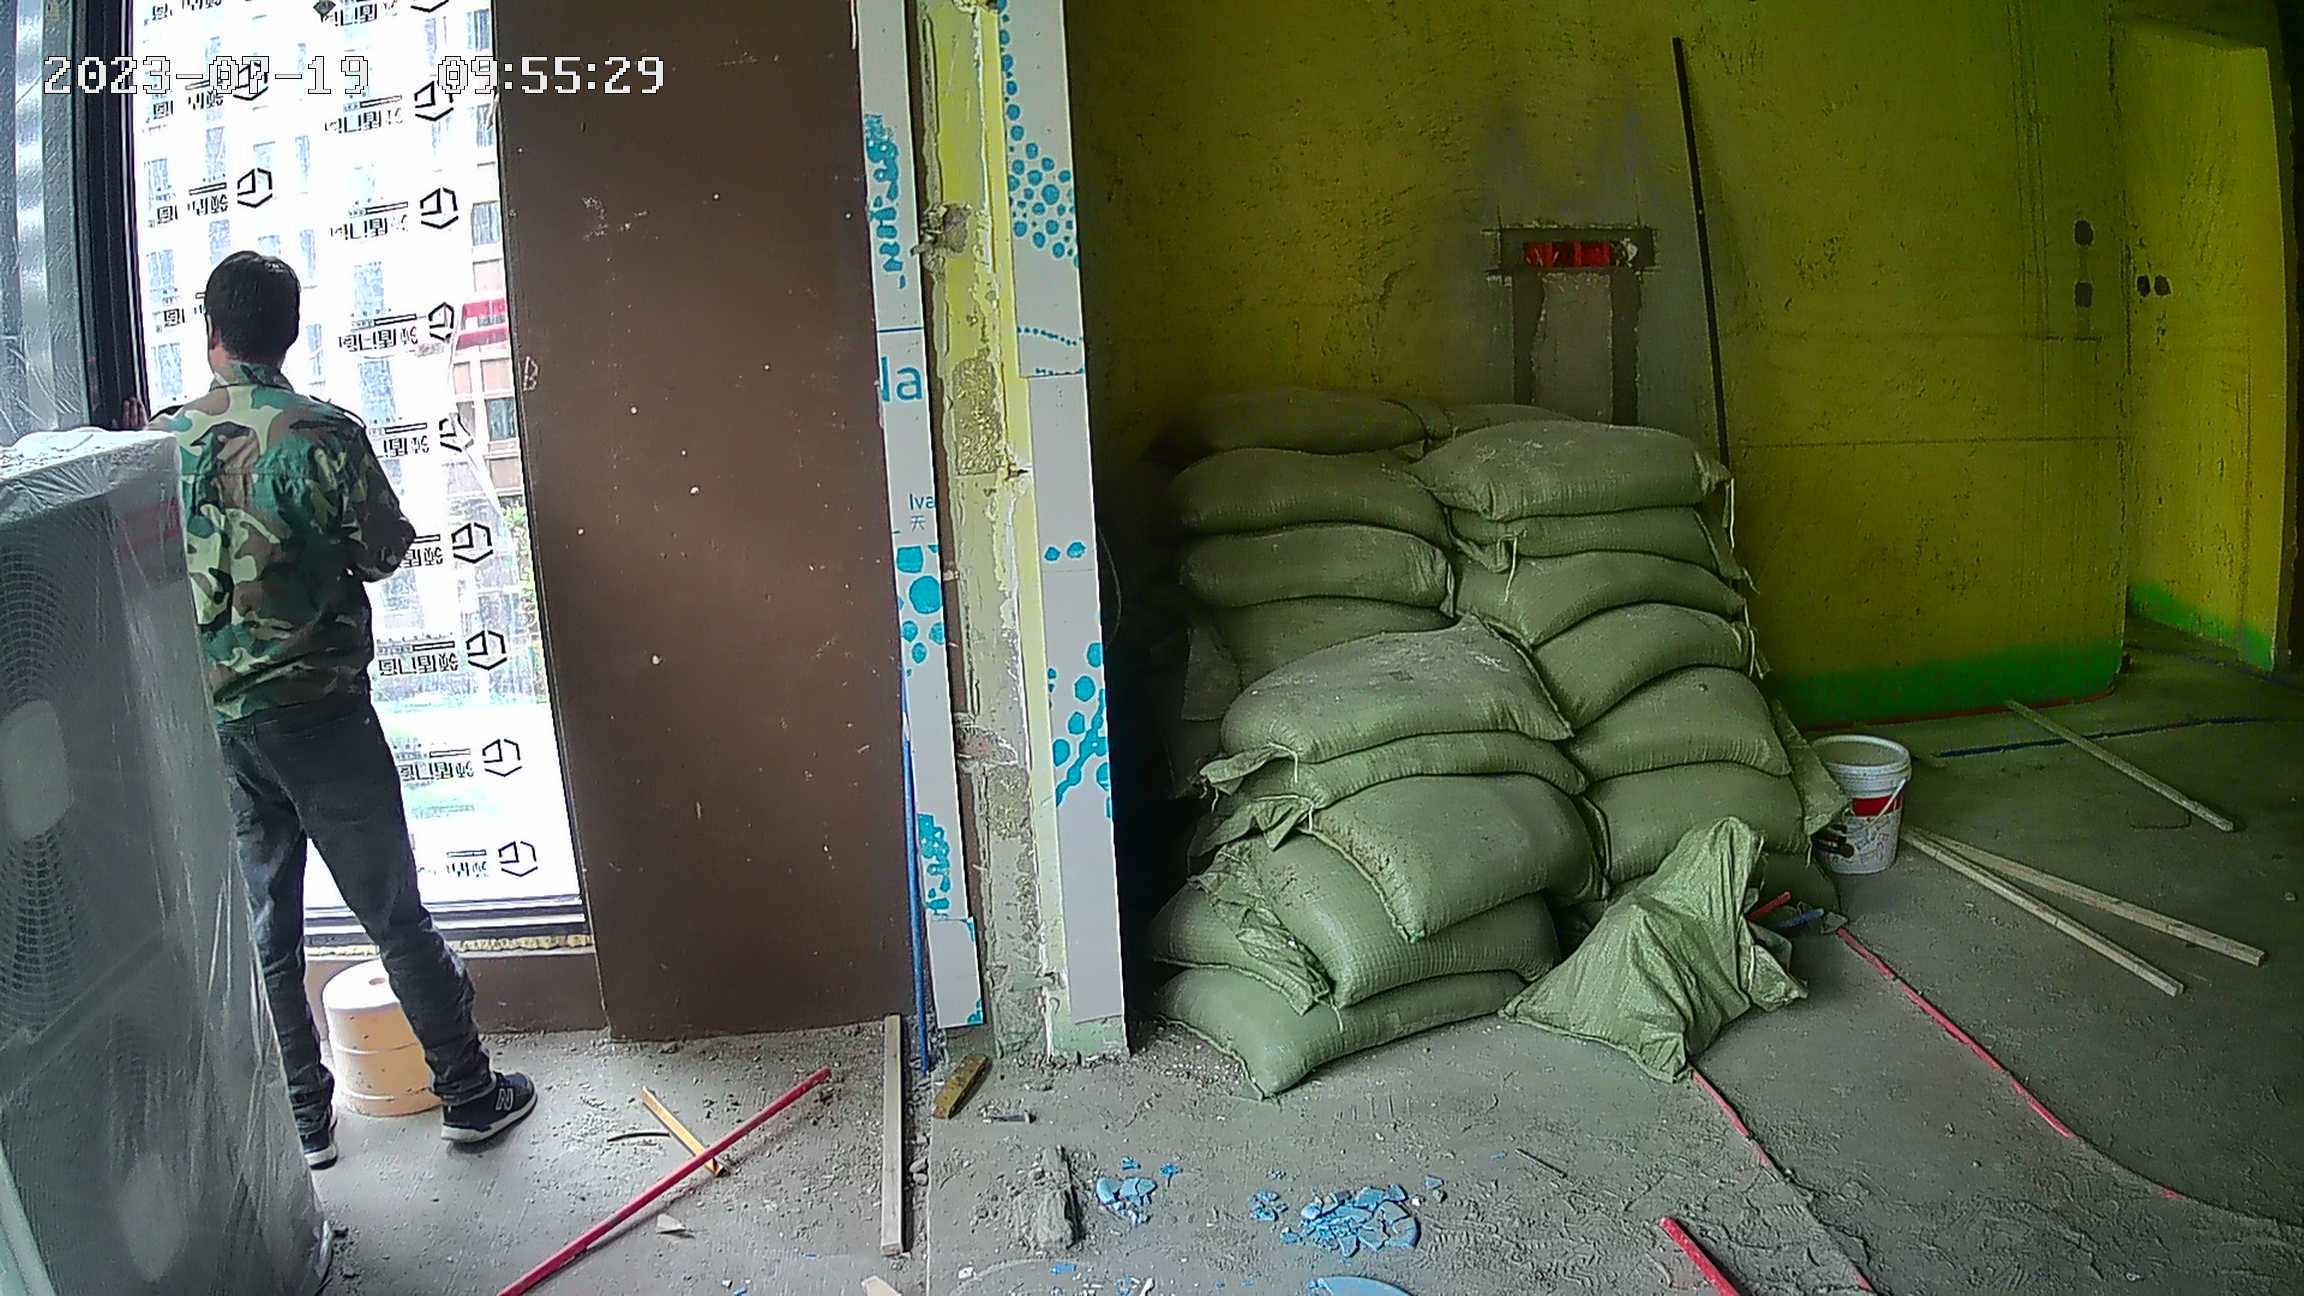people: (126, 252, 539, 1147)
window: (1, 3, 591, 952)
